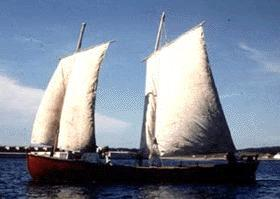Ship: (26, 12, 260, 188)
